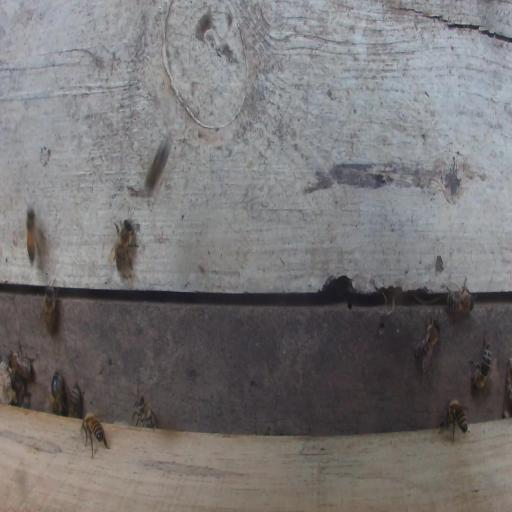bee: (107, 217, 140, 274), (413, 309, 441, 371), (25, 203, 50, 266), (38, 270, 60, 335), (82, 411, 110, 459), (468, 335, 492, 390), (440, 398, 469, 443), (132, 384, 158, 434), (445, 279, 475, 322), (8, 338, 36, 379), (51, 369, 66, 414), (68, 382, 85, 418)
